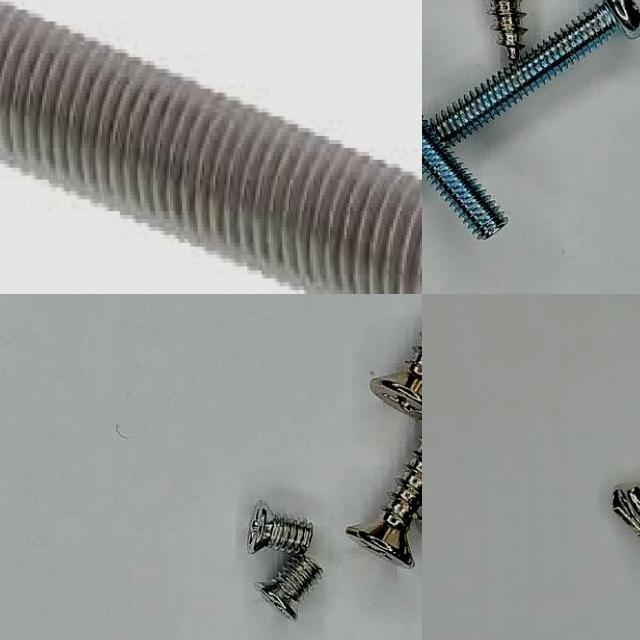Screw: (0, 1, 422, 294), (430, 0, 640, 147), (422, 117, 507, 240), (347, 440, 422, 567), (254, 556, 323, 621), (370, 344, 422, 419), (248, 501, 312, 556), (489, 0, 526, 61)
